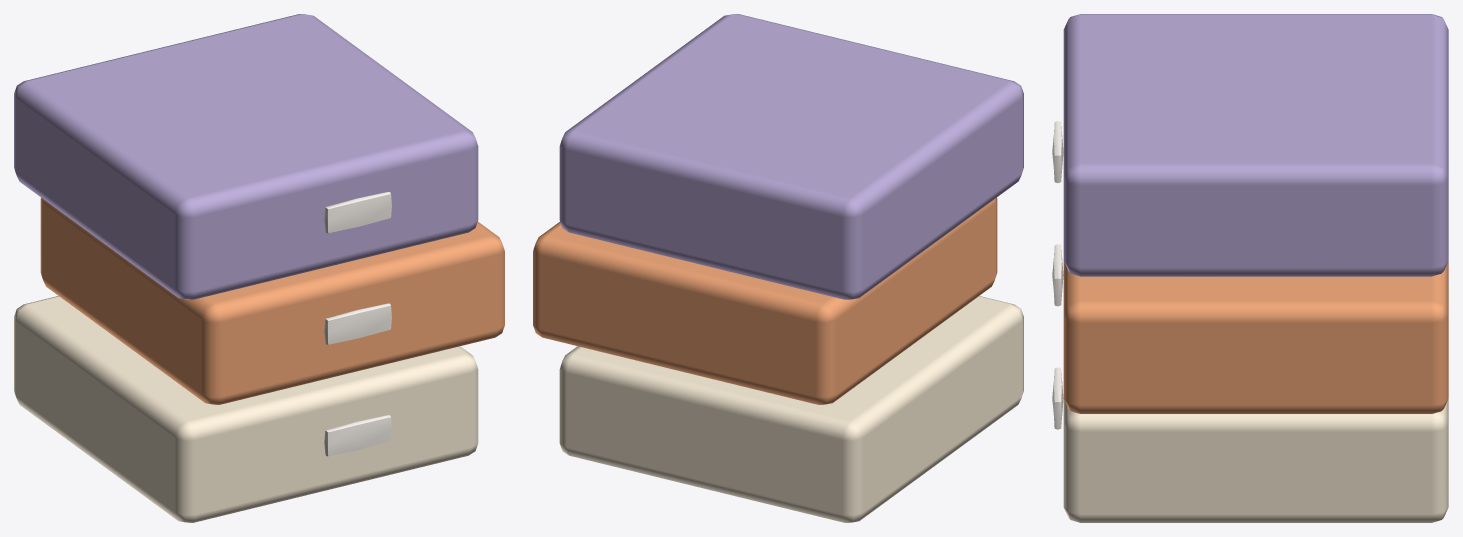
The model's file is archive-boxes.glb.
The picture shows the model from 3 angles, left to right: view 1: azimuth 30°, elevation 25°; view 2: azimuth 150°, elevation 25°; view 3: azimuth 270°, elevation 25°; orthographic projection. The views are drawn at different scales.
Parts seen in each view (by area): view 1: part (×6); view 2: part (×3); view 3: part (×6).
Part boxes in pixels (x1,y1,x2,y2): part (×6): [14, 14, 504, 522]; part (×3): [533, 14, 1023, 522]; part (×6): [1052, 14, 1448, 522].
Size of the model in its own units: 0.74 by 0.7 by 0.7.
1 material, 1 textured.
